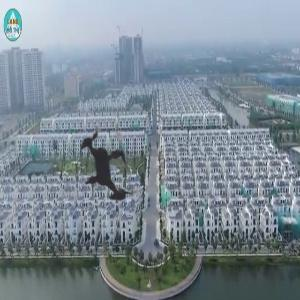drone: (43, 103, 169, 229)
